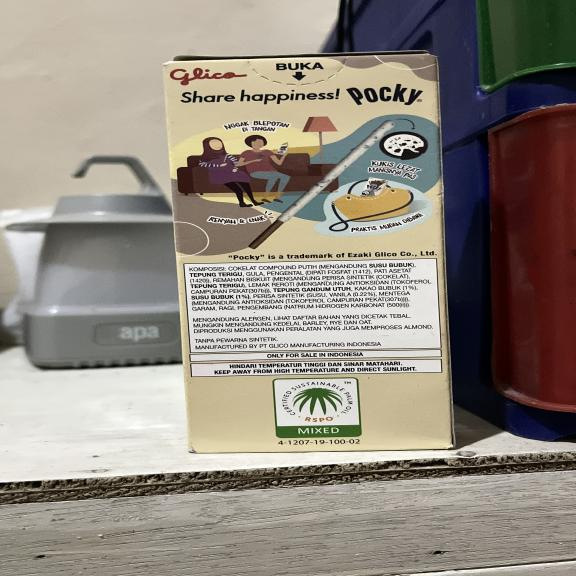Kertas: (168, 53, 460, 454)
